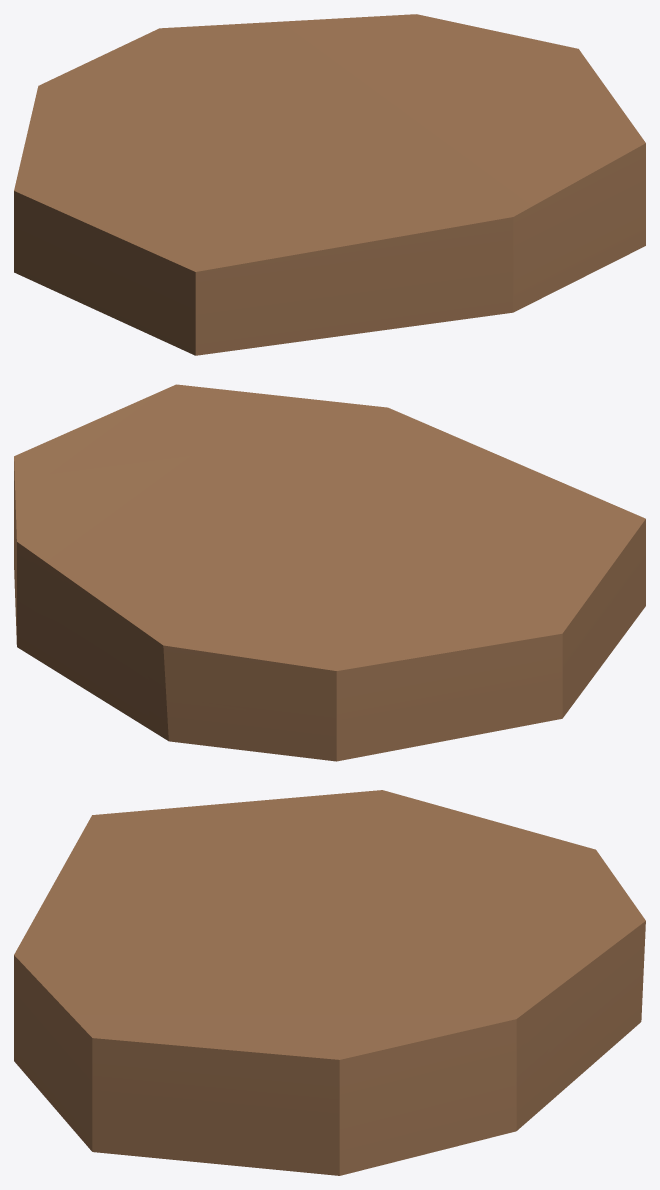
Rendered from stone flat brown.fbx.
3 views of the same model, one above another, from view 1: azimuth 30°, elevation 25°; view 2: azimuth 150°, elevation 25°; view 3: azimuth 270°, elevation 25° (orthographic). The views are drawn at different scales.
Parts seen in each view (by area): view 1: stone flat brown; view 2: stone flat brown; view 3: stone flat brown.
Boxes of the visible parts, x1,y1,x2,y2 form: stone flat brown: (14, 14, 645, 355); stone flat brown: (14, 384, 645, 761); stone flat brown: (14, 790, 645, 1175).
Bounding box in the file's own units: 62.9 × 11.53 × 56.88.
